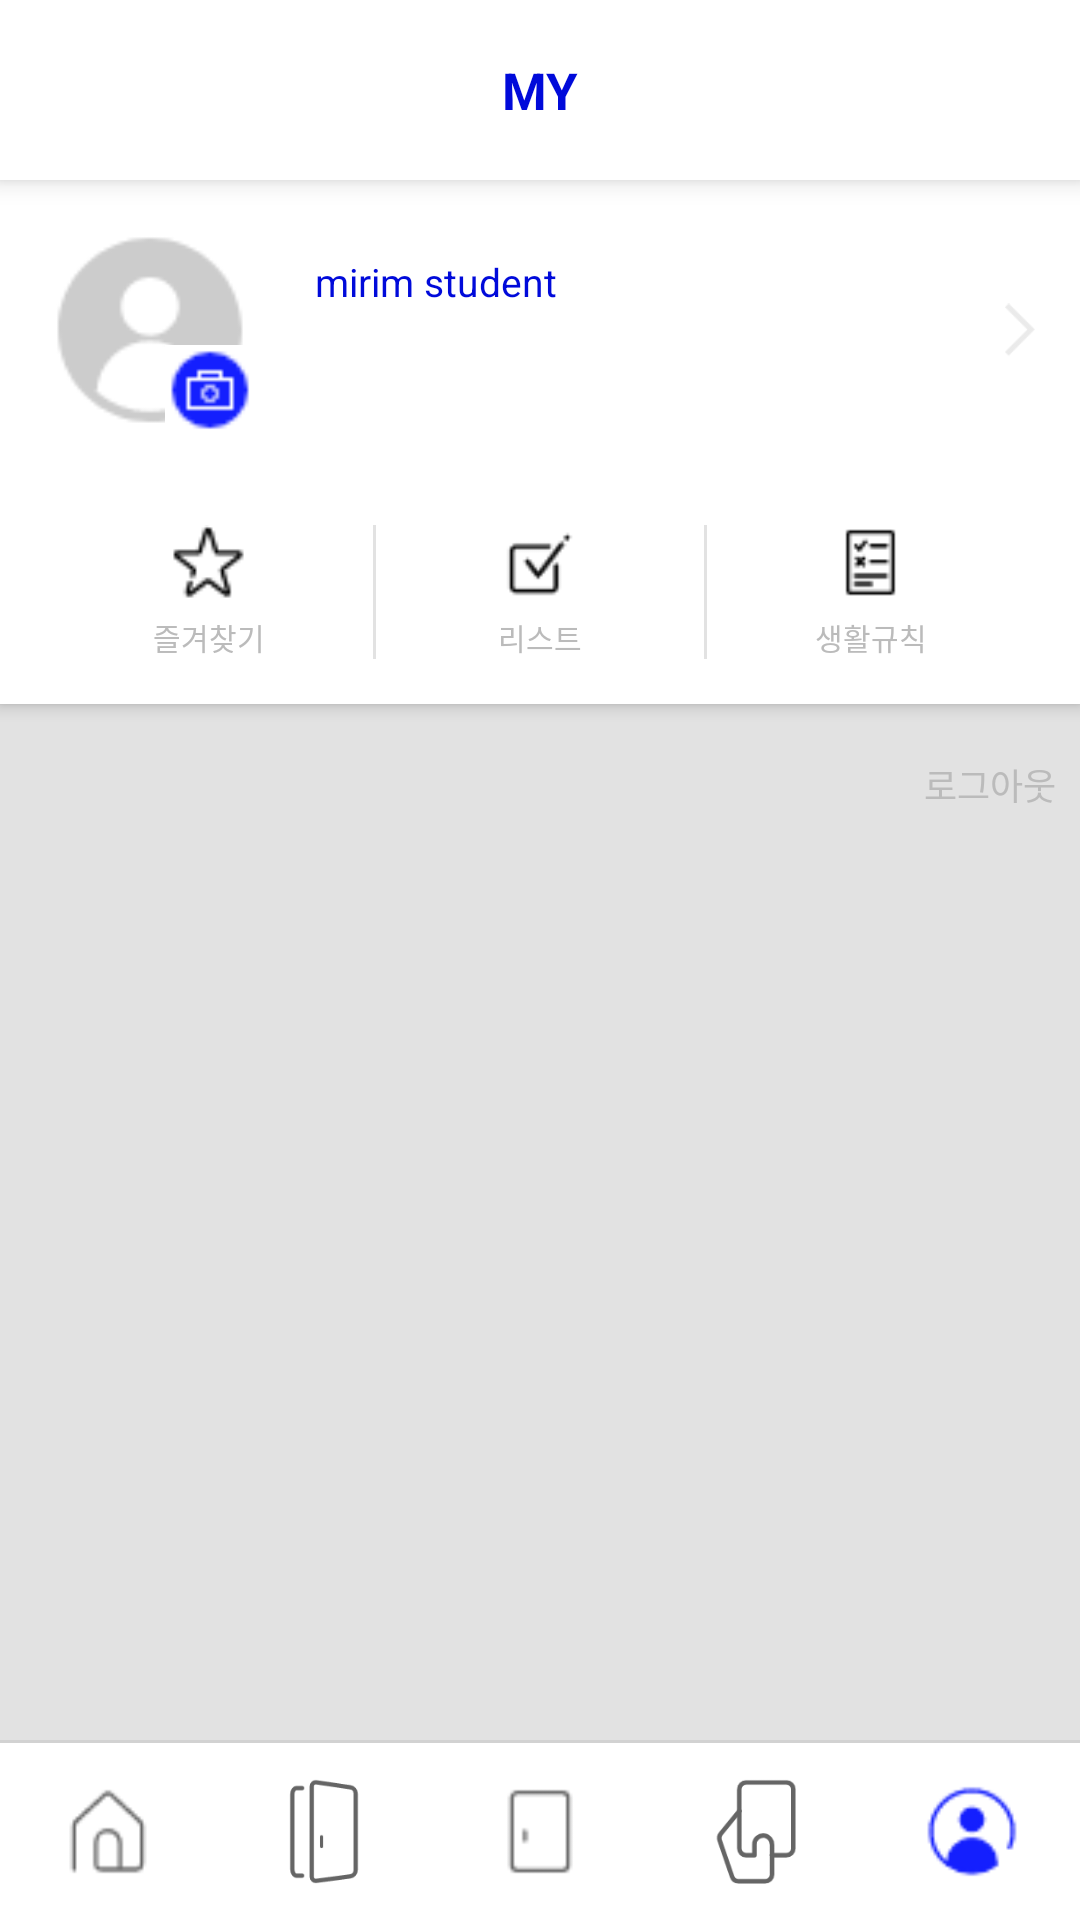

Named icons in this screenshot (1080w x 1920h) and their centers, [x,y]:
bottombar enter: [540,1831]
bottombar goout: [324,1831]
bottombar my: [972,1831]
bottombar point: [756,1832]
